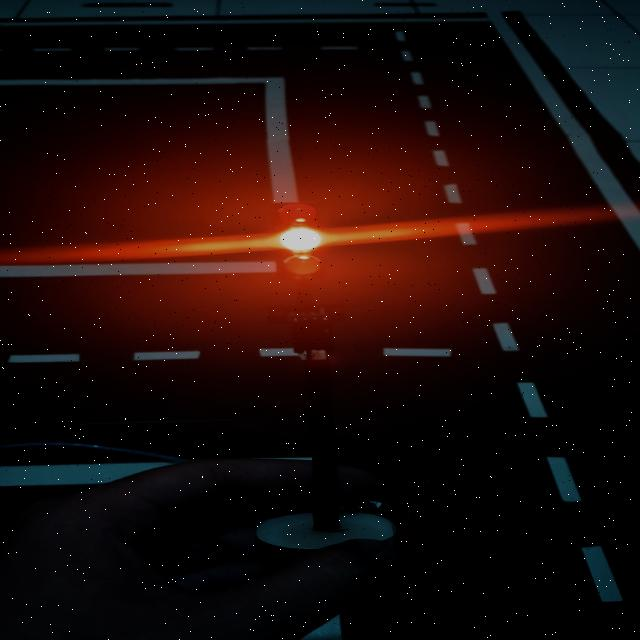Lampu Kuning: (264, 201, 334, 288)
